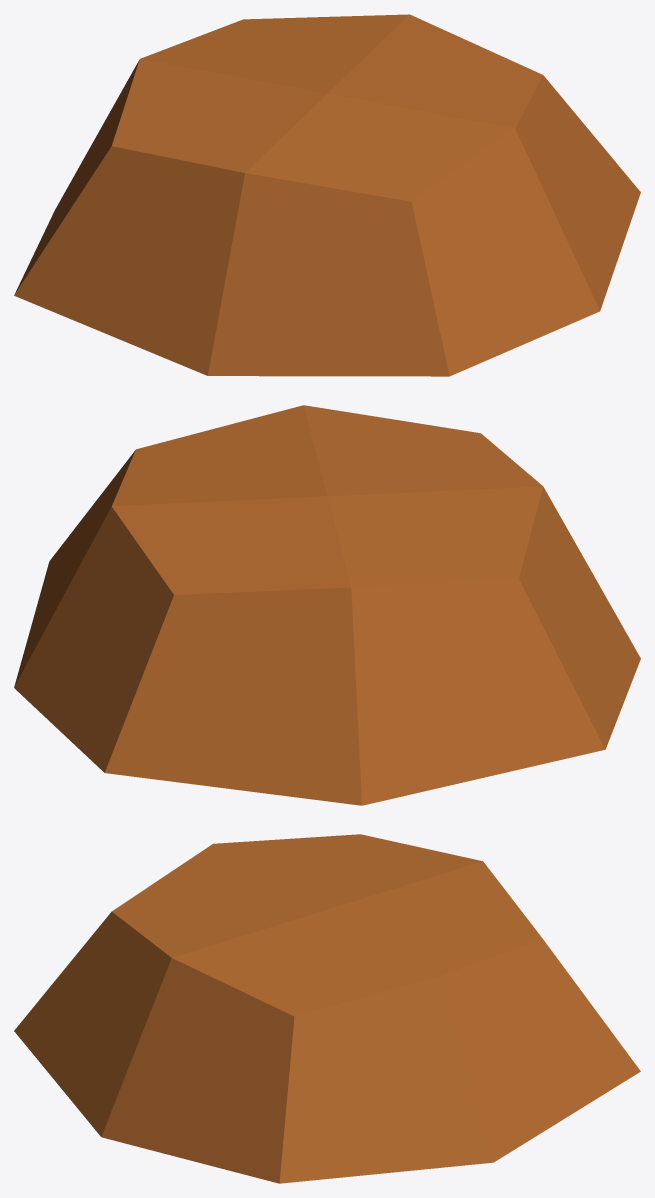
Rendered from SmallRockVar.fbx.
The picture shows the model from 3 angles, top to bottom: view 1: azimuth 30°, elevation 25°; view 2: azimuth 150°, elevation 25°; view 3: azimuth 270°, elevation 25°; orthographic projection. The views are drawn at different scales.
Visible parts, largest first — view 1: SmallRockVariant; view 2: SmallRockVariant; view 3: SmallRockVariant.
Boxes of the visible parts, left/top/right/bottom form: SmallRockVariant: left=14, top=14, right=640, bottom=376; SmallRockVariant: left=14, top=405, right=640, bottom=805; SmallRockVariant: left=14, top=834, right=640, bottom=1183.
Size of the model in its own units: 0.0902 by 0.025 by 0.0902.
1 material, 1 textured.
